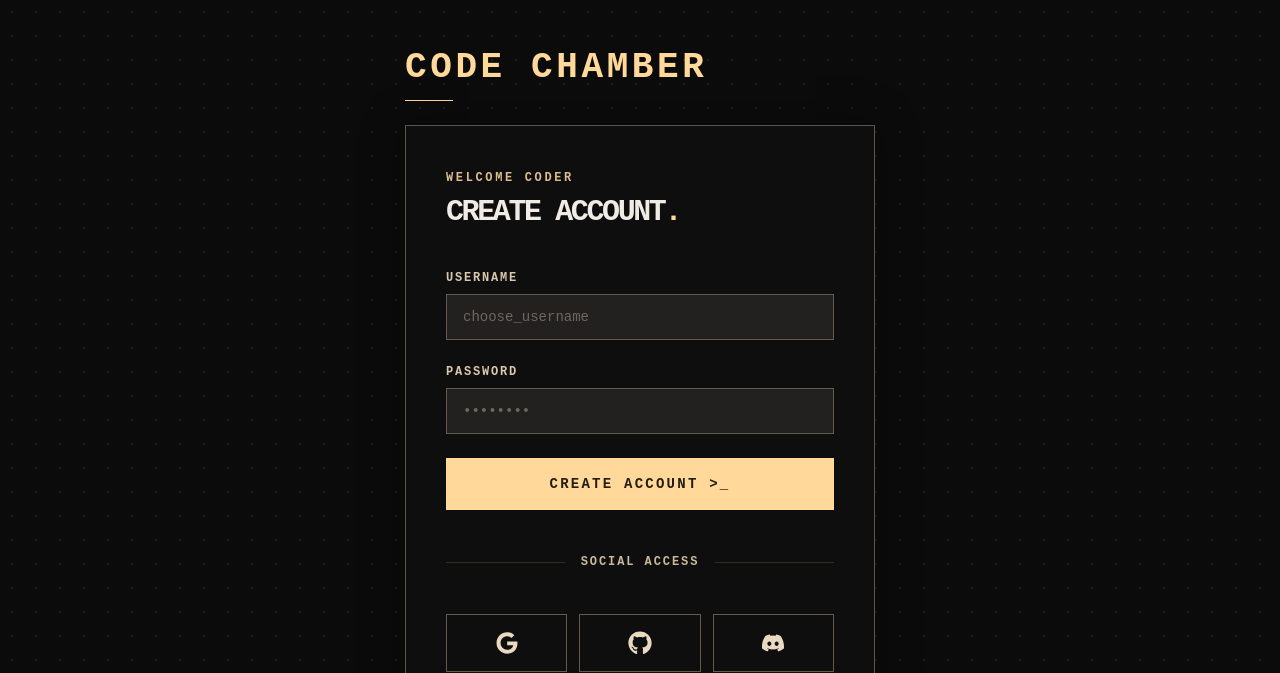
Test: Signup - manual submit › shows a fallback error message when signUp.email throws
Type "alice" into the field with placeholder "choose_username" at {"x": 640, "y": 317}, box [446,294,834,340]
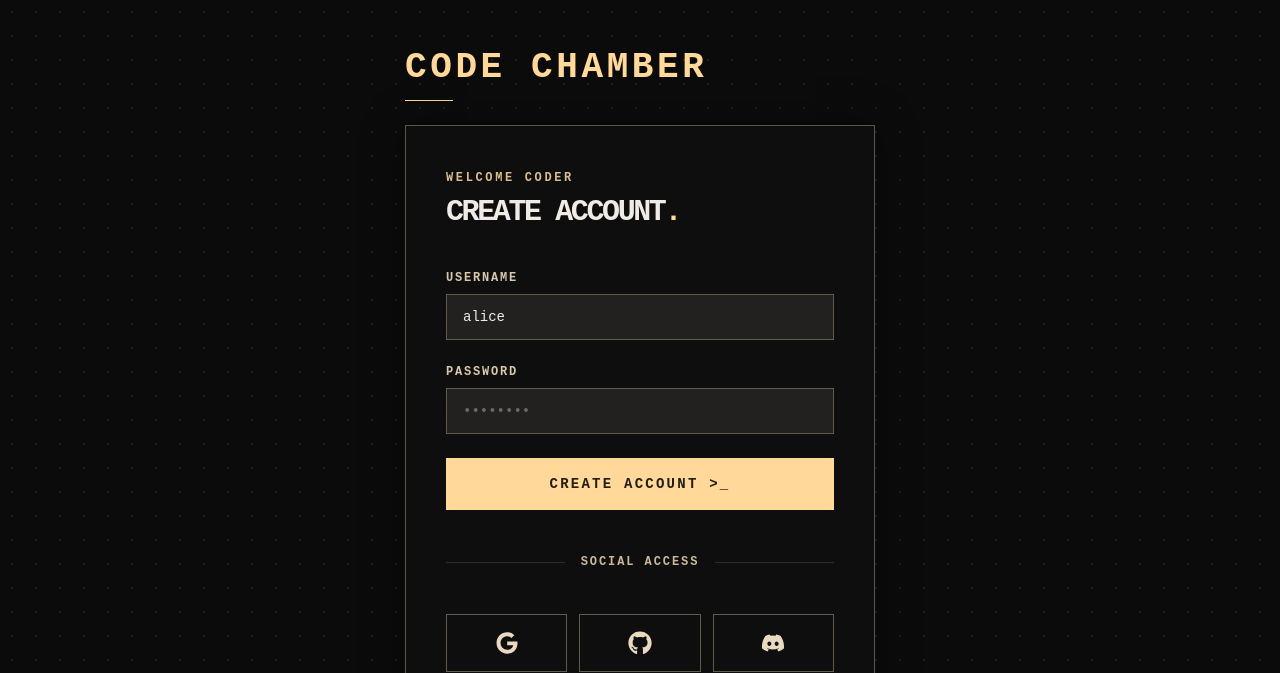
Type "hunter2" into the password field with placeholder "••••••••" at {"x": 640, "y": 411}, box [446,388,834,434]
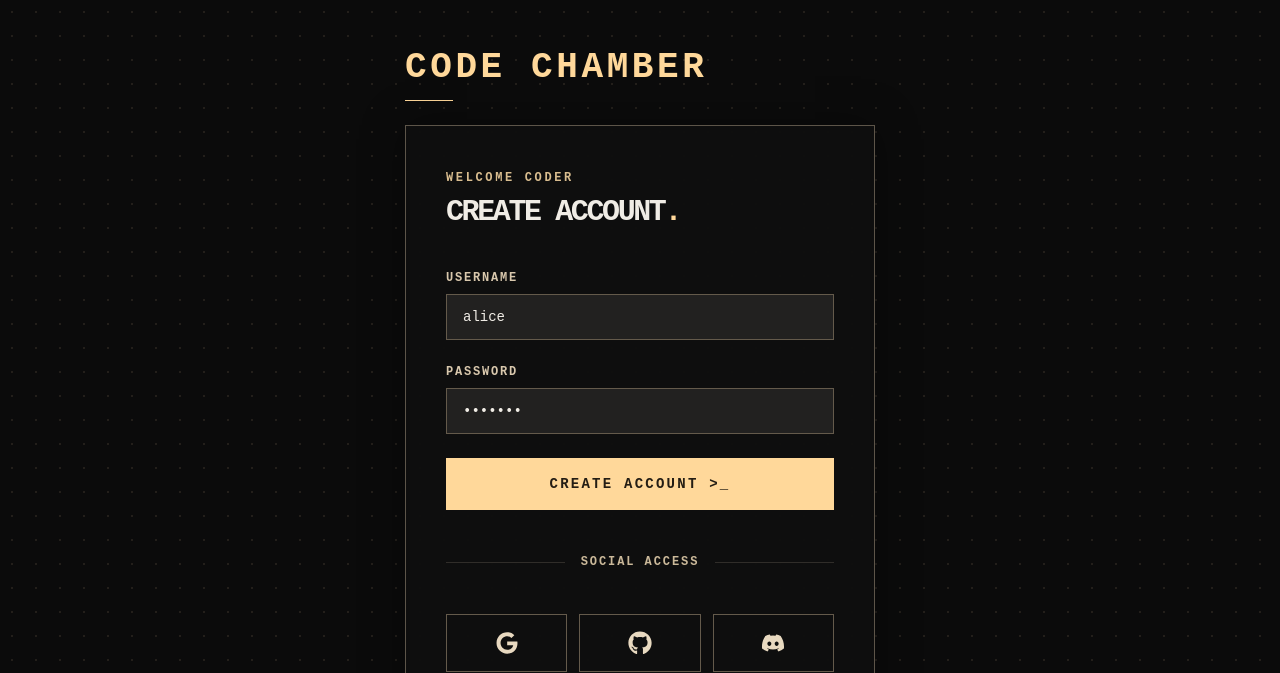
Click the button "CREATE ACCOUNT >_" at {"x": 640, "y": 484}, box [446,458,834,510]
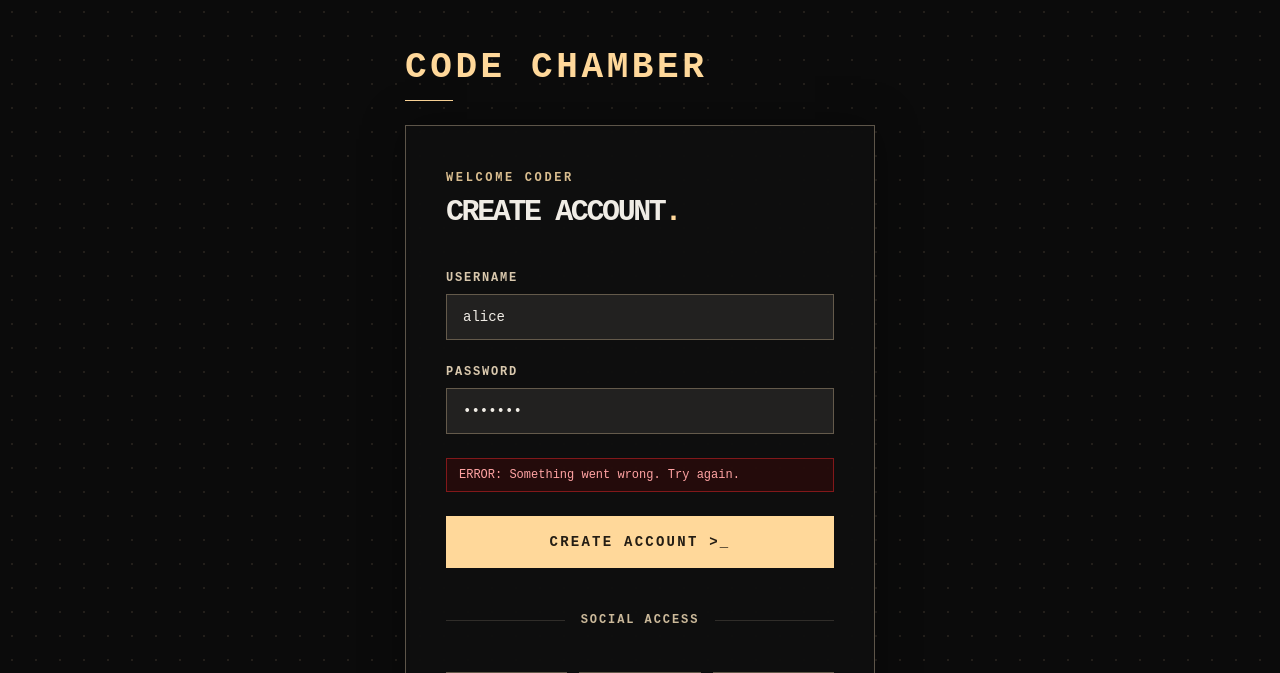
Expected: the text "ERROR: Something went wrong. Try again." is shown, [446,458,834,492]
